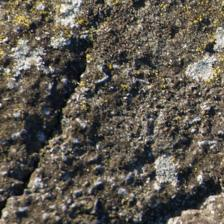Crack: (0, 83, 112, 224), (2, 57, 180, 106)
